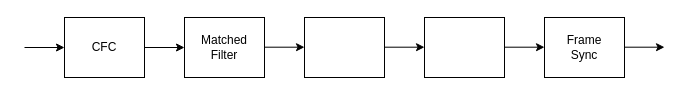
The diagram is 690 pixels wide and 95 high, and some of its shapes have lost their labels. The shapes that lost their labels are listed below. From the top down, each one's centre as x and y in pixels, then its label:
At (x=344, y=47): "Timing Recovery".
At (x=464, y=47): "Carrier Recovery".
